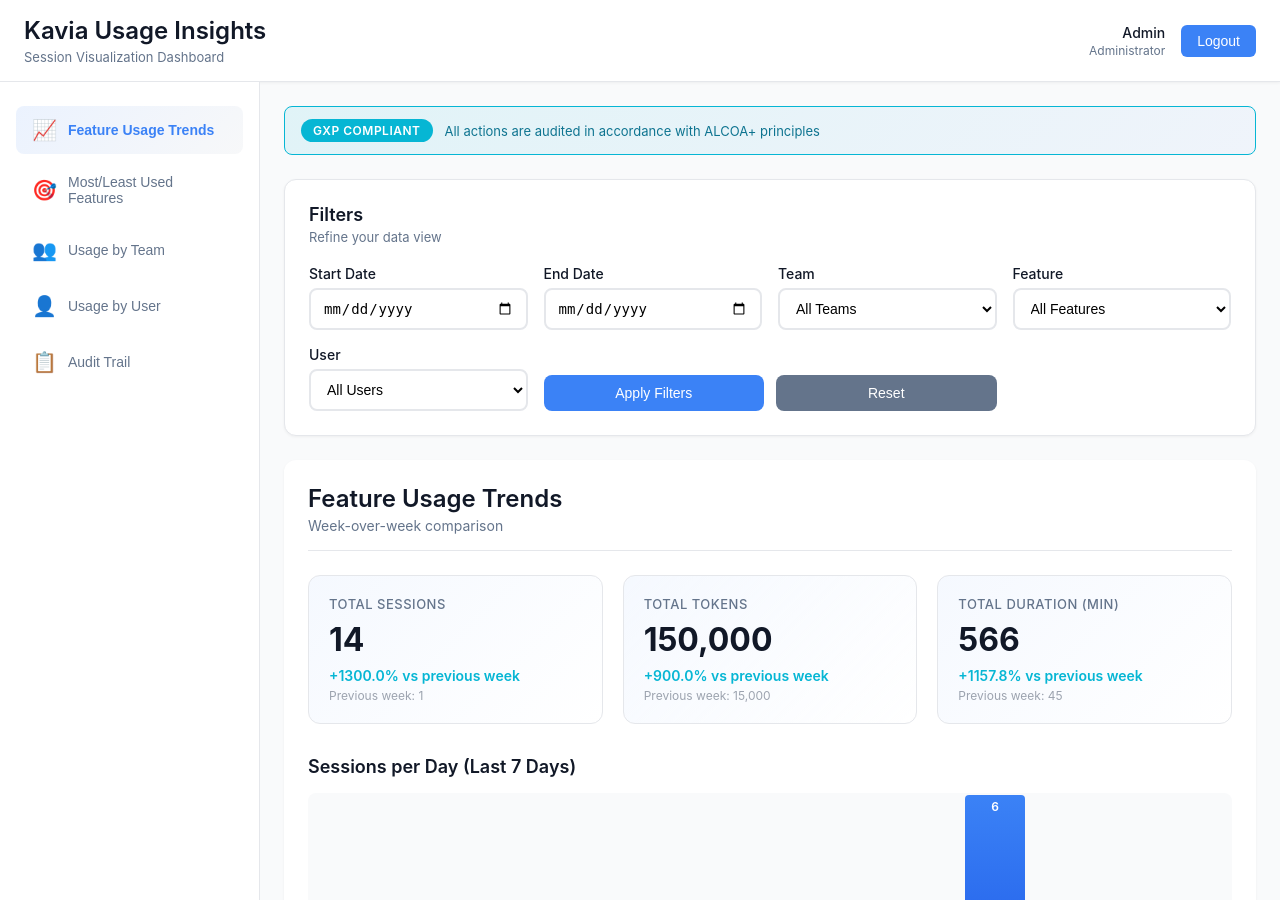
Dashboard Component › switches views when navigation is clicked
Click the button "📋 Audit Trail" at (130, 362), box [16,338,243,386]
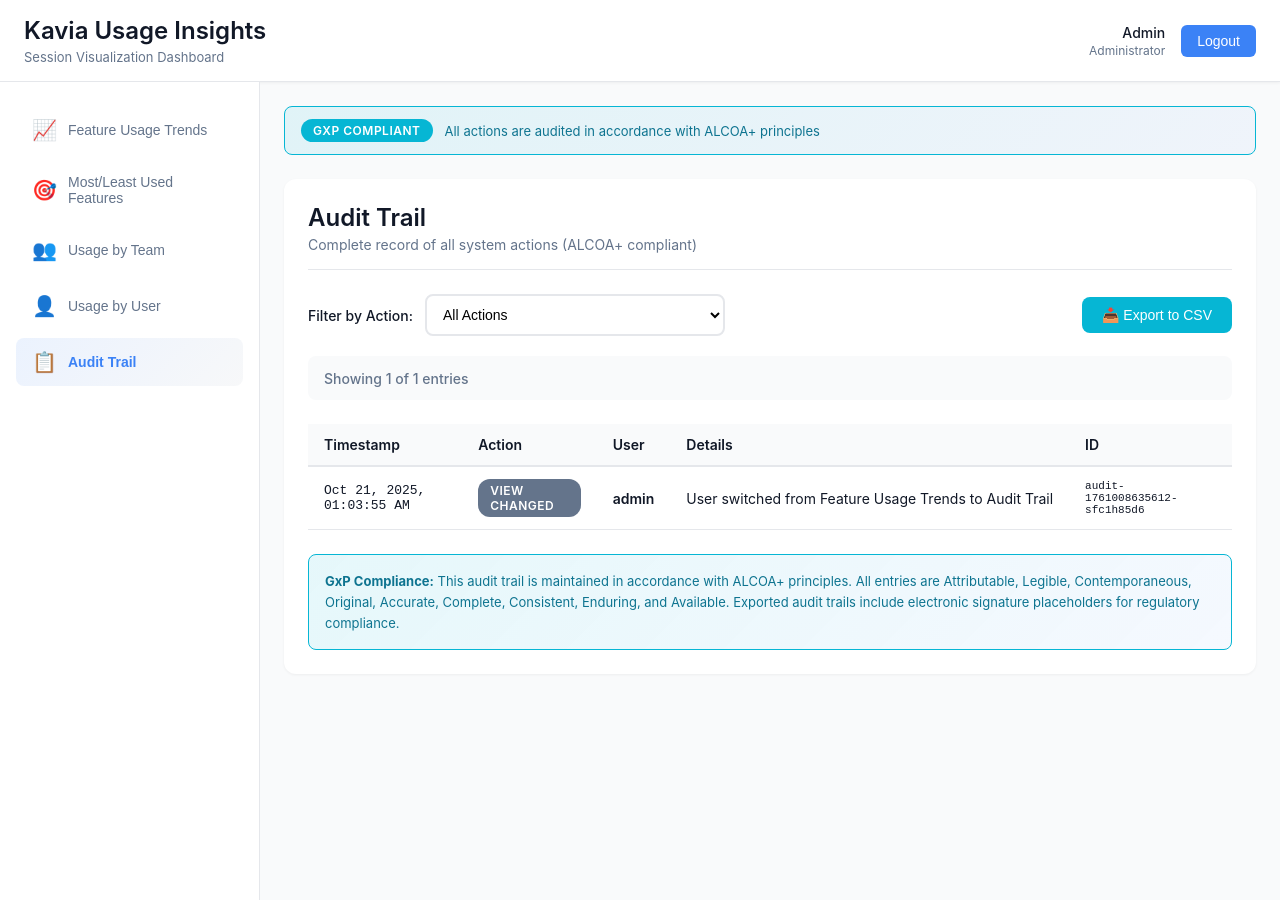
Now the text "Complete record of all system actions (ALCOA+ compliant)" is shown, box [308,236,697,253]
